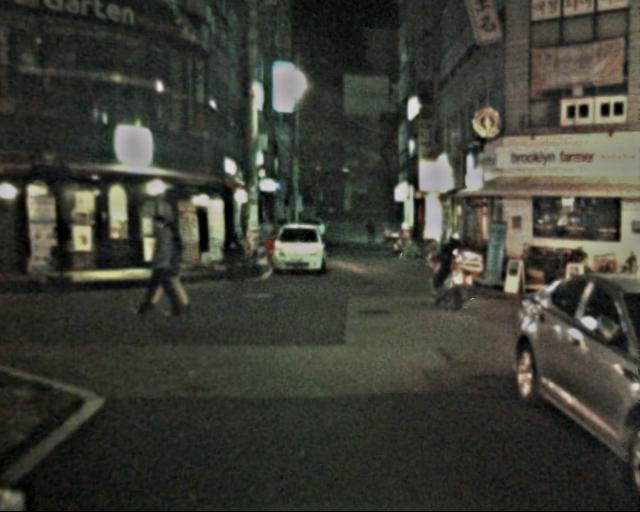person: (142, 216, 184, 316), (439, 232, 474, 314)
